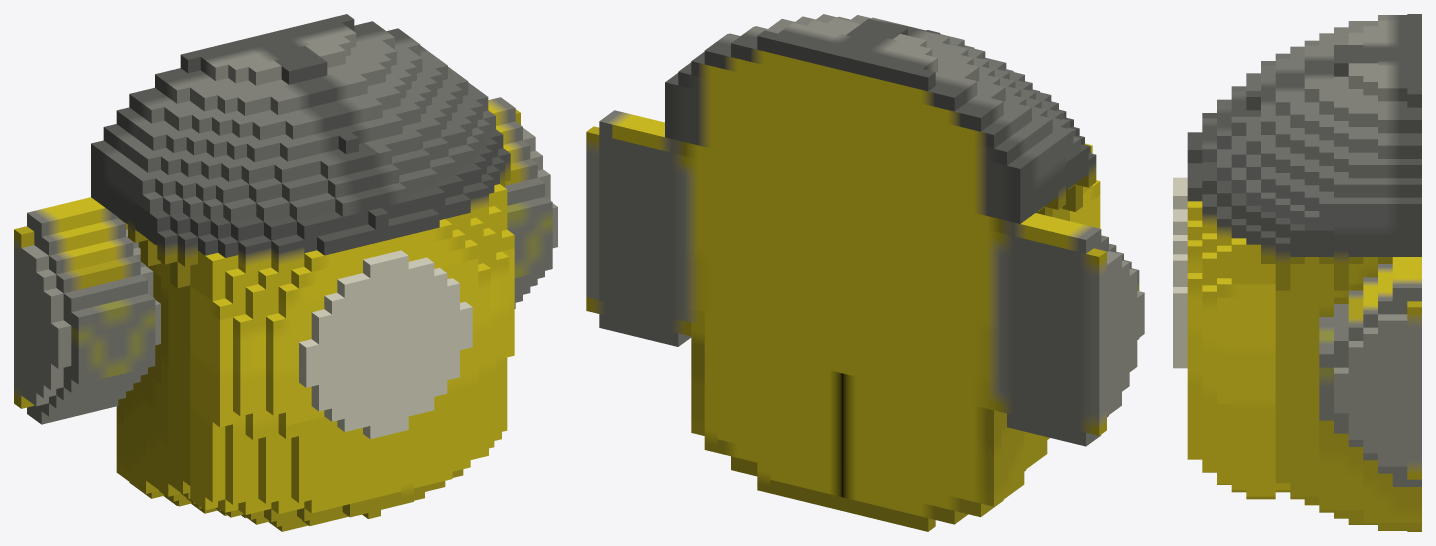
Rendered from Matrix.dae.
3 renders of one model, left to right at view 1: azimuth 30°, elevation 25°; view 2: azimuth 150°, elevation 25°; view 3: azimuth 270°, elevation 25°, orthographic. The views are drawn at different scales.
Parts seen in each view (by area): view 1: Matrix; view 2: Matrix; view 3: Matrix.
Boxes of the visible parts, <box> form: Matrix: <box>14,14,557,531</box>; Matrix: <box>586,14,1144,531</box>; Matrix: <box>1173,14,1421,531</box>.
Size of the model in its own units: 39 by 33 by 17.
Materials: 1 (1 with a texture image).
